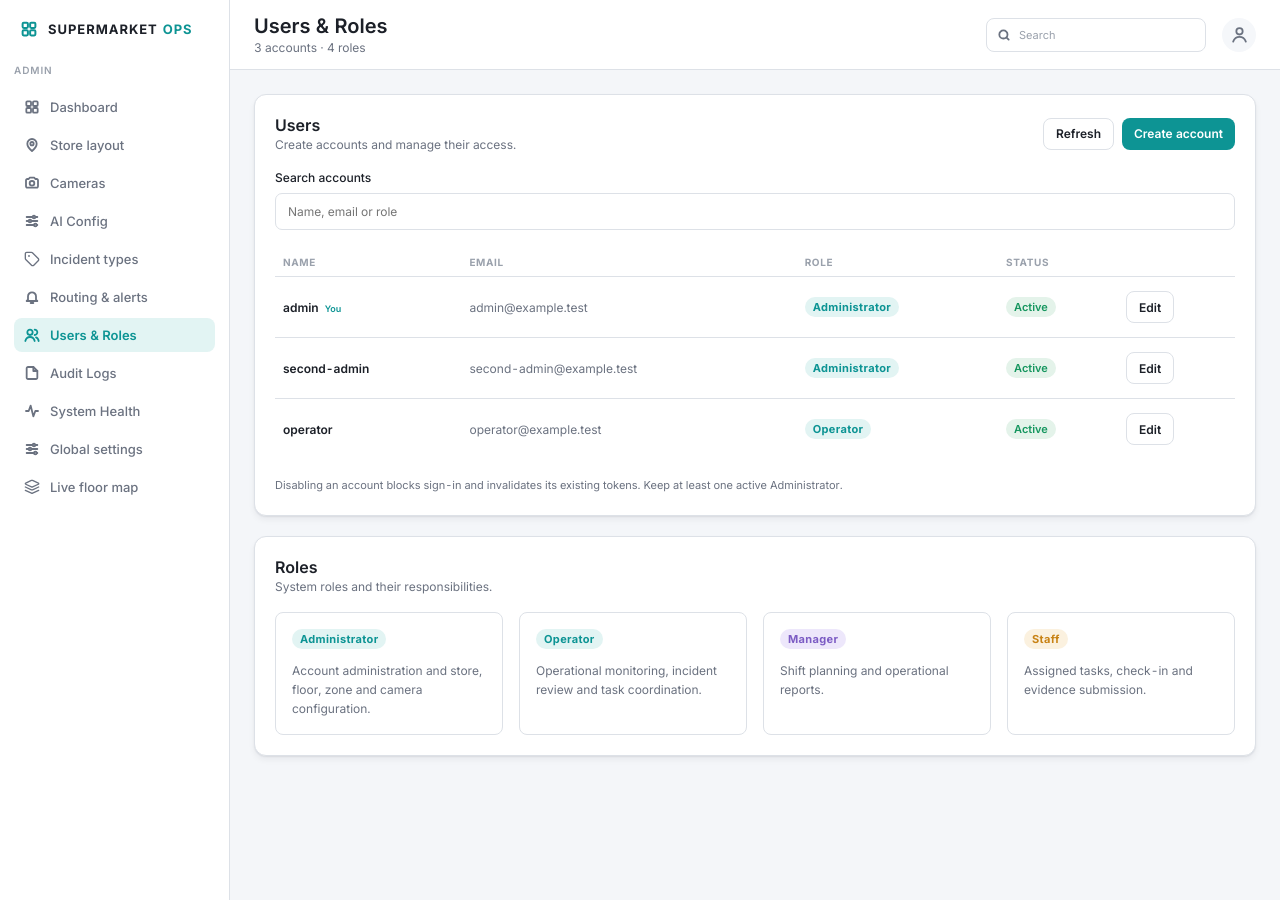
Scenario: Users & Roles account integration › preserves the draft and shows duplicate-email errors, then allows retry
Expected: the button with aria-label "Edit operator@example.test" is shown, [1126, 413, 1174, 445]
Click the button "Create account".
click(1178, 134)  # box [1122, 118, 1235, 150]
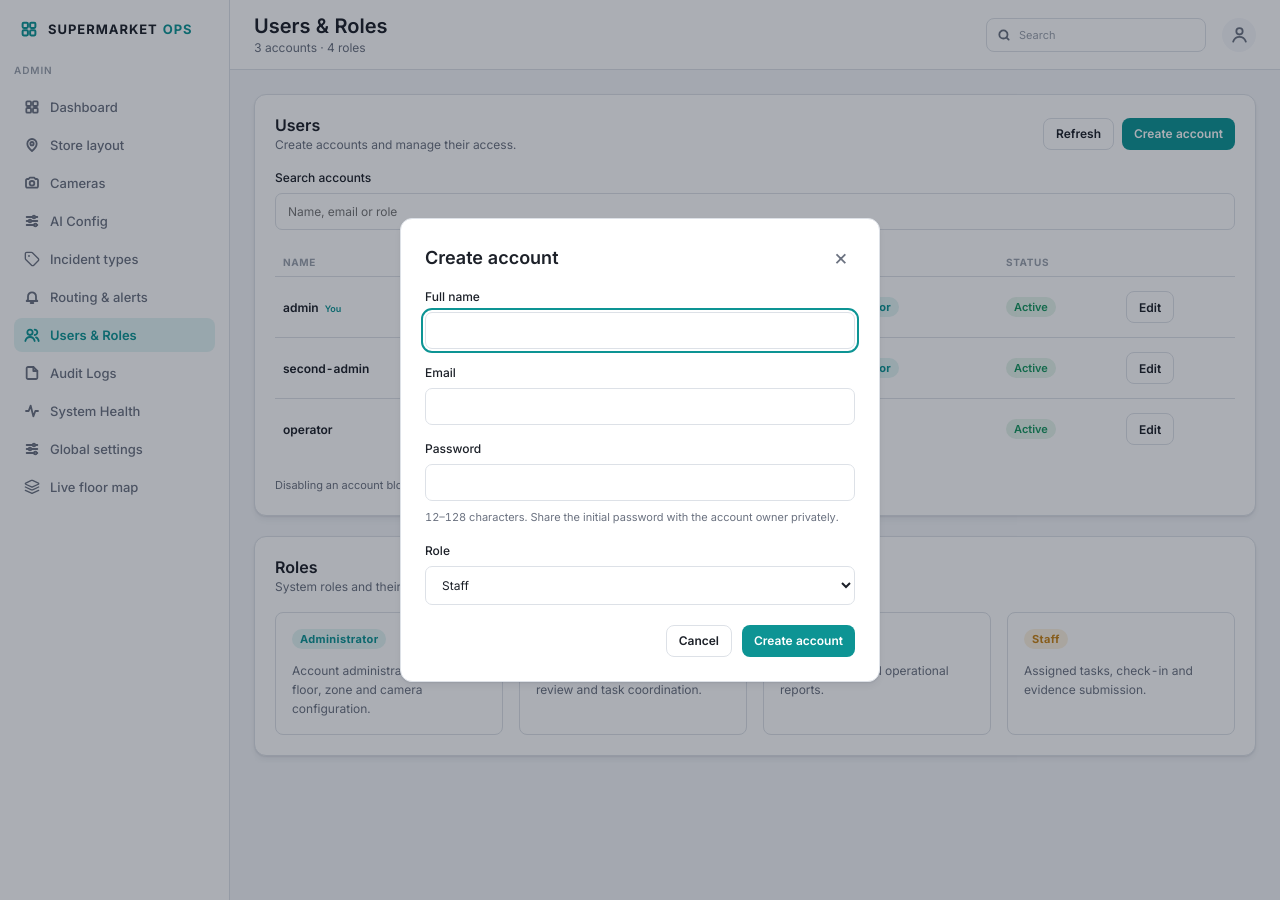
Type "Keep my draft" into the field labelled "Full name".
click(640, 331); type("Keep my draft")  # box [425, 312, 855, 349]
Type "admin@example.test" into the field labelled "Email".
click(640, 407); type("admin@example.test")  # box [425, 388, 855, 425]
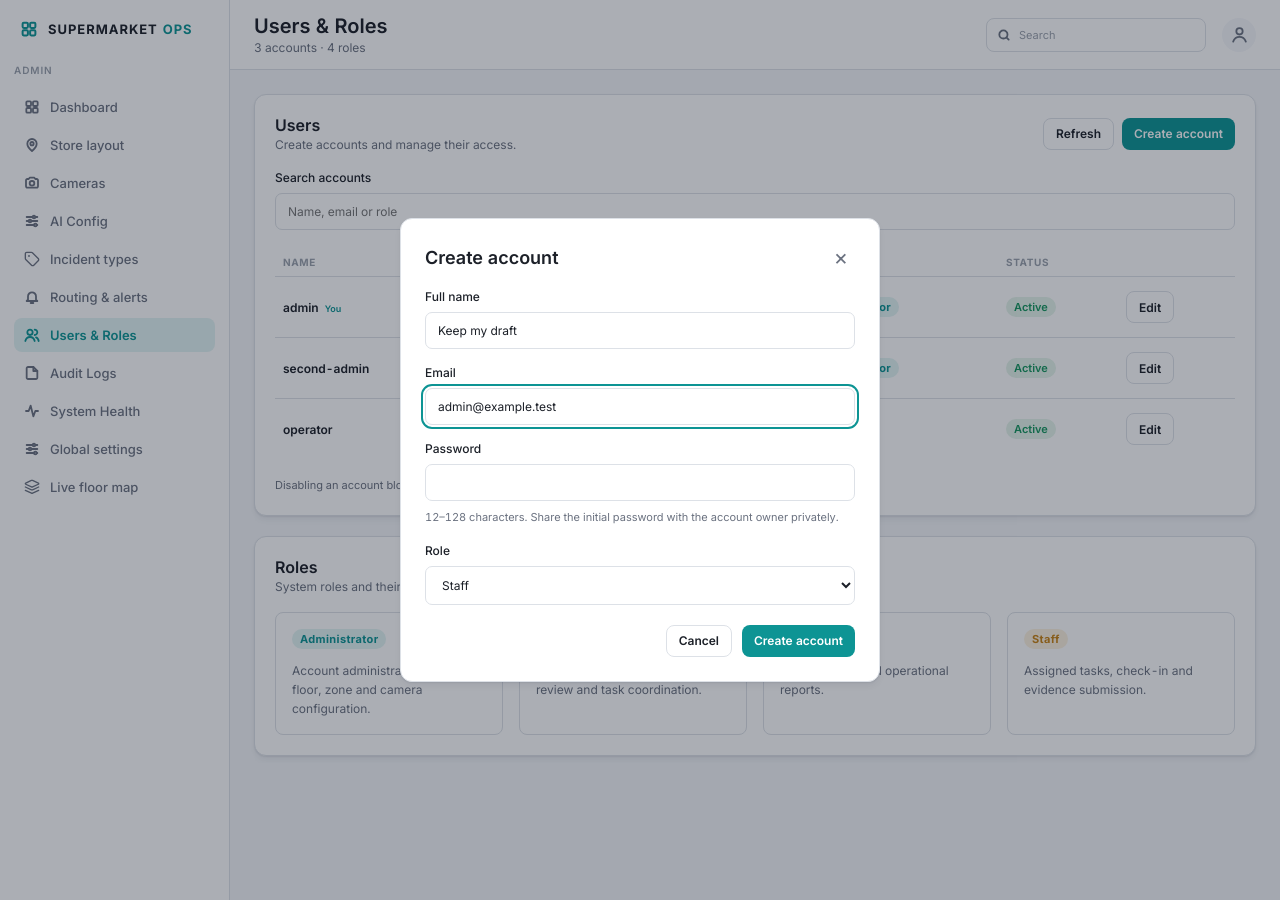
Type "TestPassword123!" into the password field labelled "Password".
click(640, 483); type("TestPassword123!")  # box [425, 464, 855, 501]
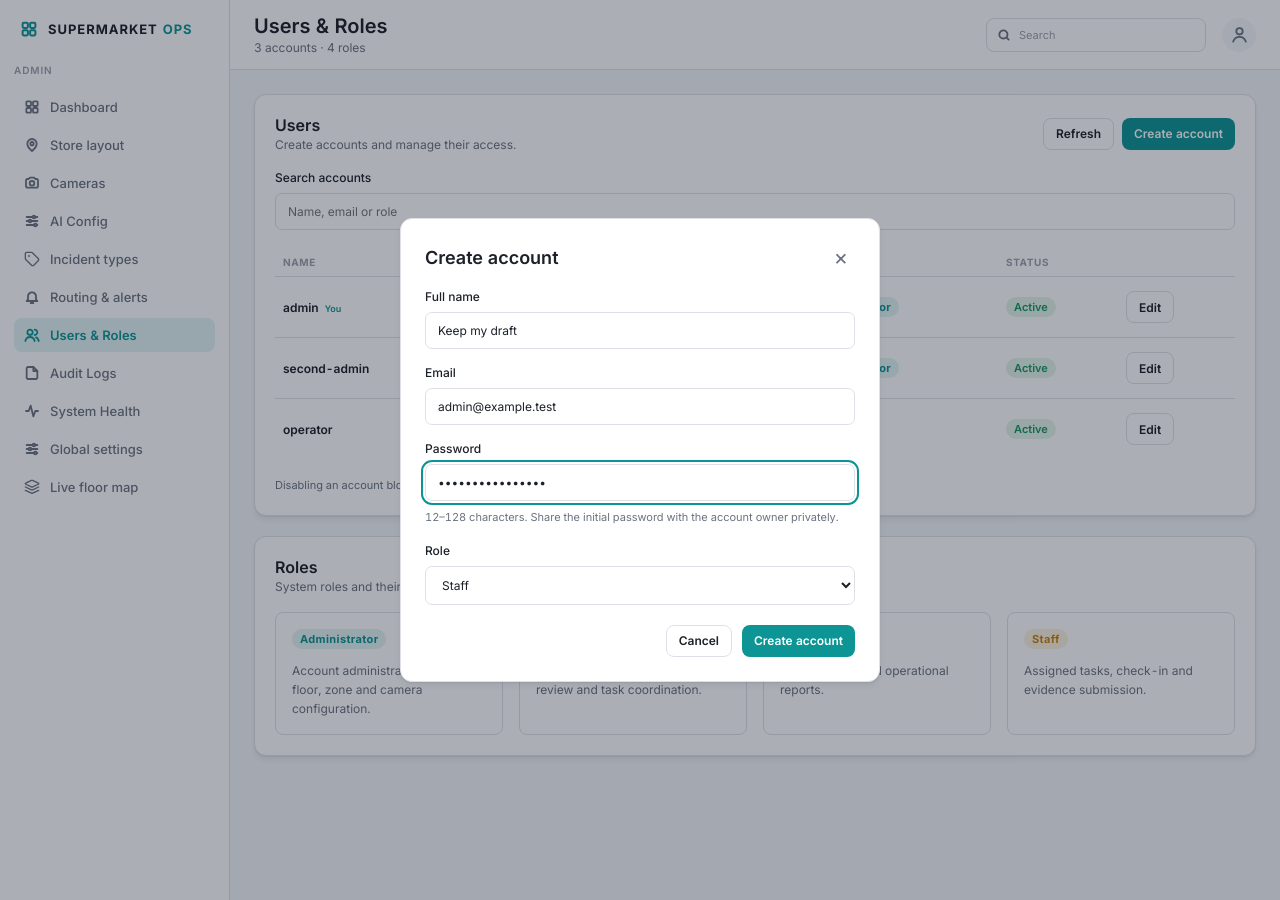
Click the button "Create account".
click(798, 641)  # box [742, 625, 855, 657]
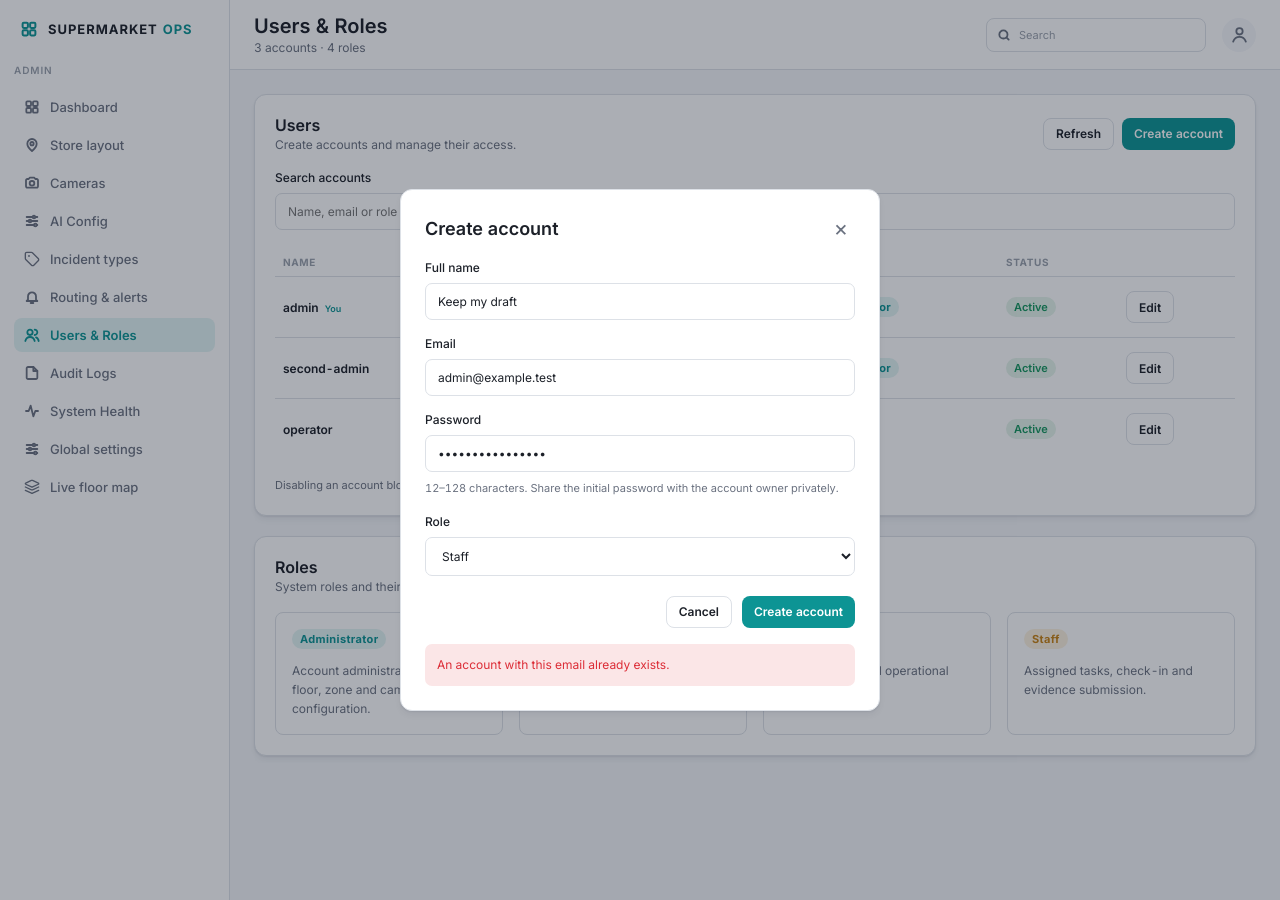
Expected: the message reads "An account with this email already exists.", [437, 657, 669, 672]
Replace the text in the field labelled "Email" with "retry@example.test" at (640, 378), box [425, 359, 855, 396]
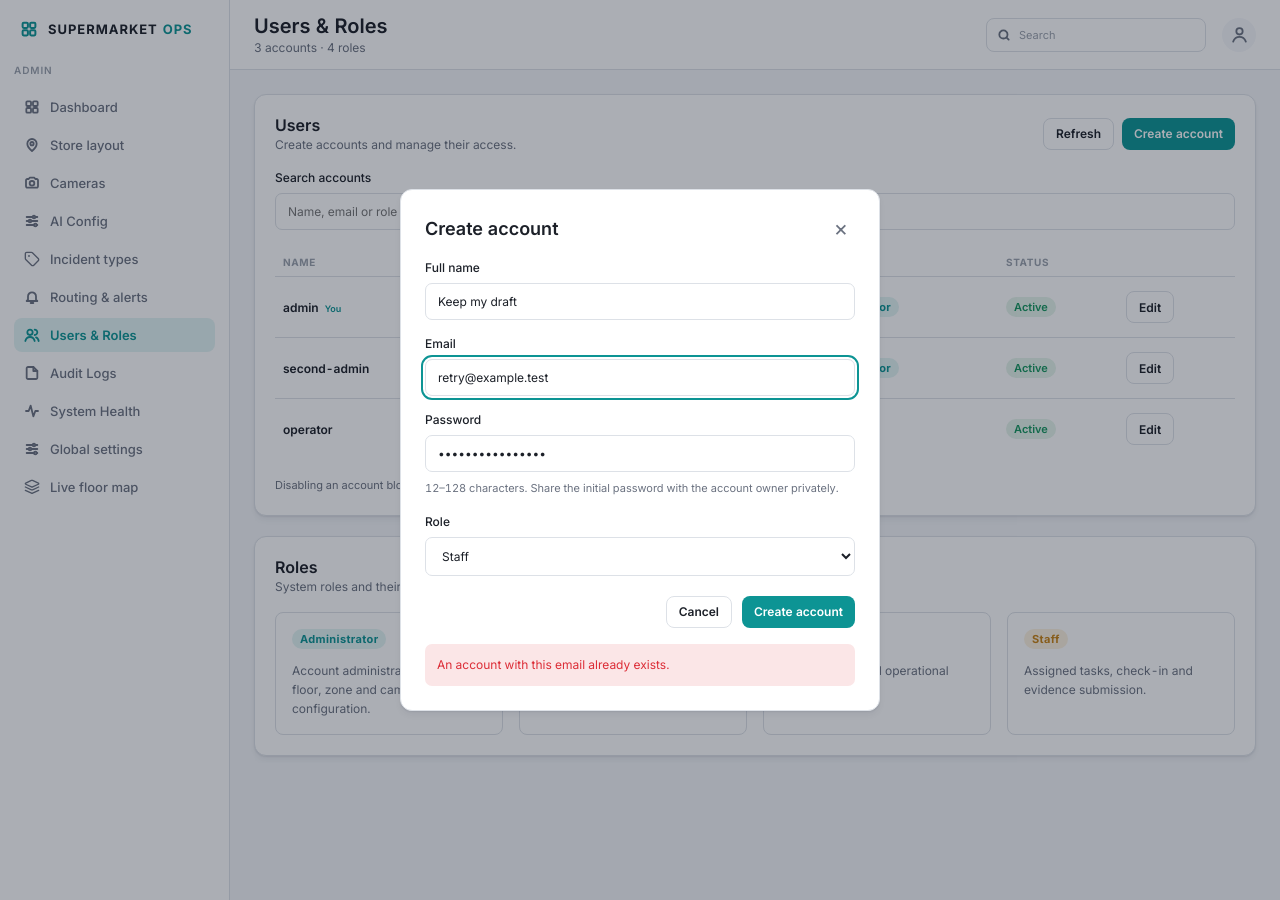
Click the button "Create account".
click(798, 612)  # box [742, 596, 855, 628]
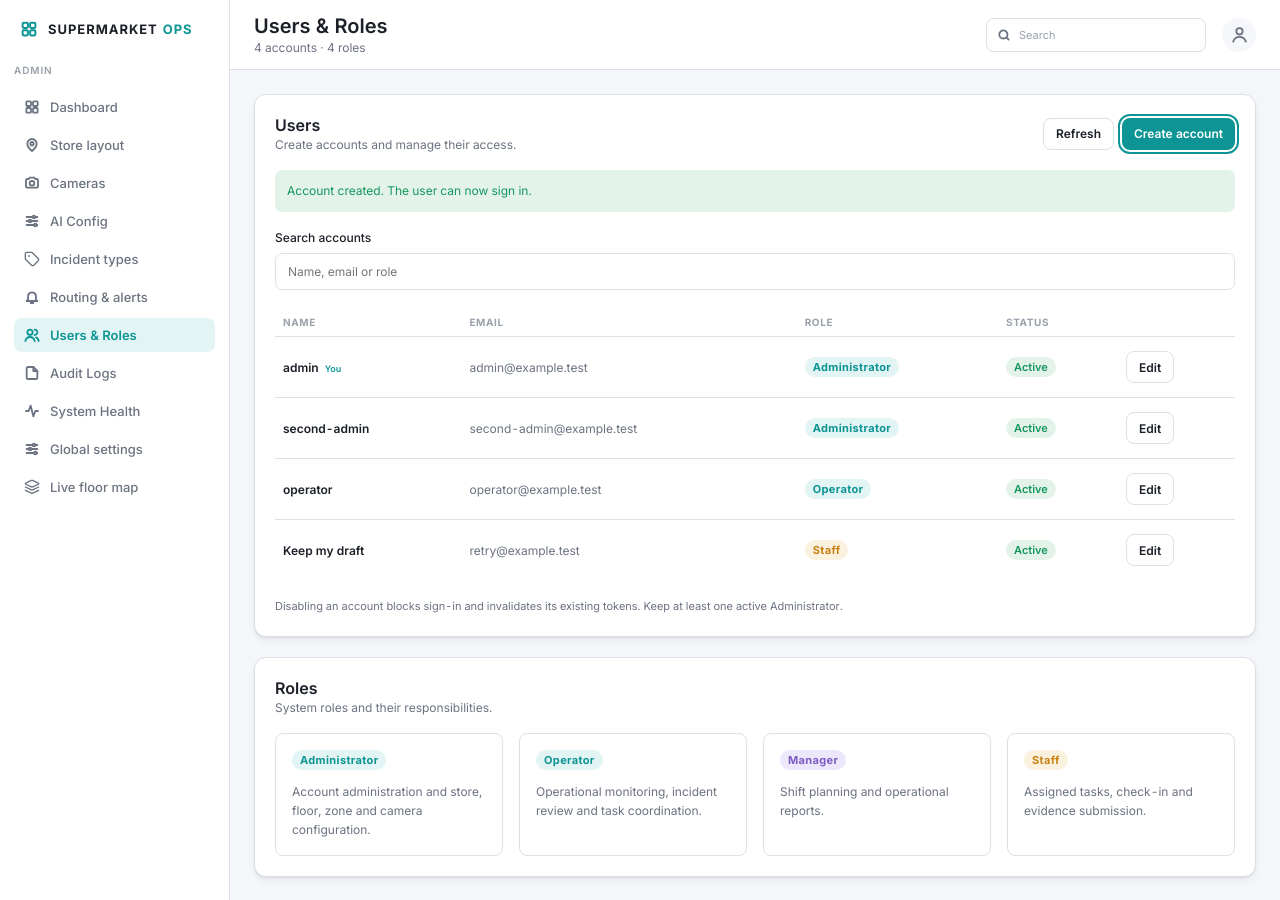
Expected: the text "Account created. The user can now sign in." is shown, [275, 170, 1235, 212]
